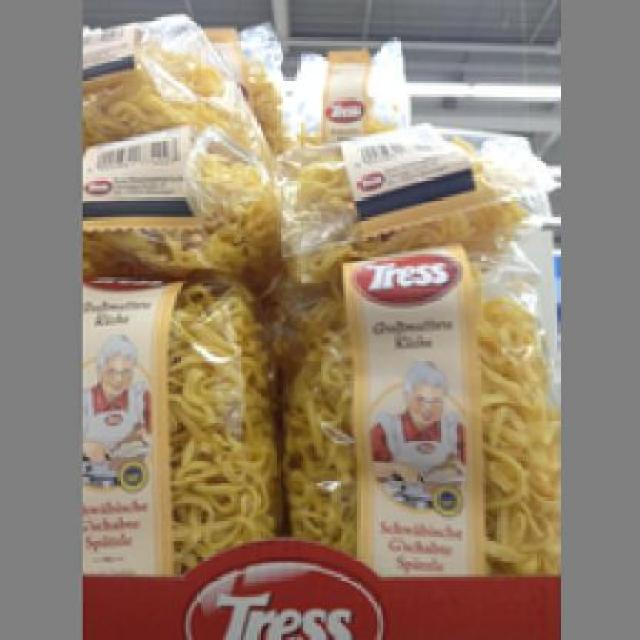Pasta: (277, 252, 557, 574), (80, 260, 280, 574), (274, 126, 552, 243)
